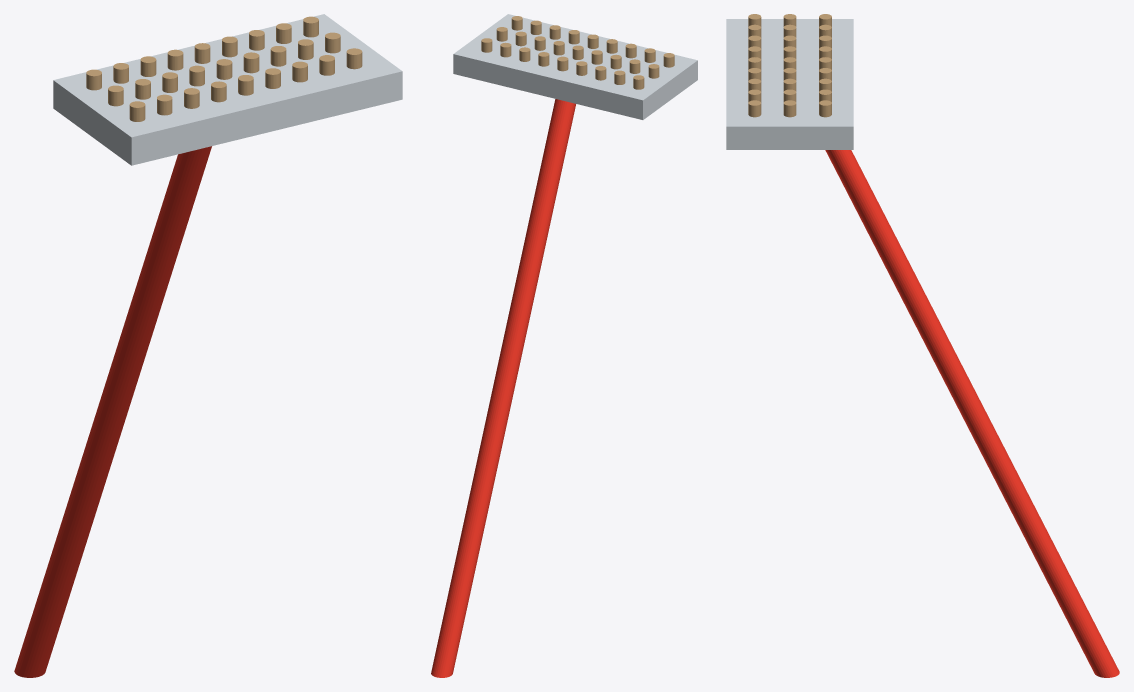
File: batonRouge.dae
3 renders of one model, left to right at view 1: azimuth 30°, elevation 25°; view 2: azimuth 150°, elevation 25°; view 3: azimuth 270°, elevation 25°, orthographic. The views are drawn at different scales.
Parts seen in each view (by area): view 1: Cube, Cylinder_027; view 2: Cylinder_027, Cube; view 3: Cylinder_027, Cube.
Boxes of the visible parts, <box> form: Cube: <box>53,14,402,165</box>; Cylinder_027: <box>14,146,211,677</box>; Cylinder_027: <box>431,99,575,677</box>; Cube: <box>453,14,697,119</box>; Cylinder_027: <box>825,150,1119,677</box>; Cube: <box>726,19,853,149</box>.
Bounding box in the file's own units: 2 × 3.08 × 5.3.
